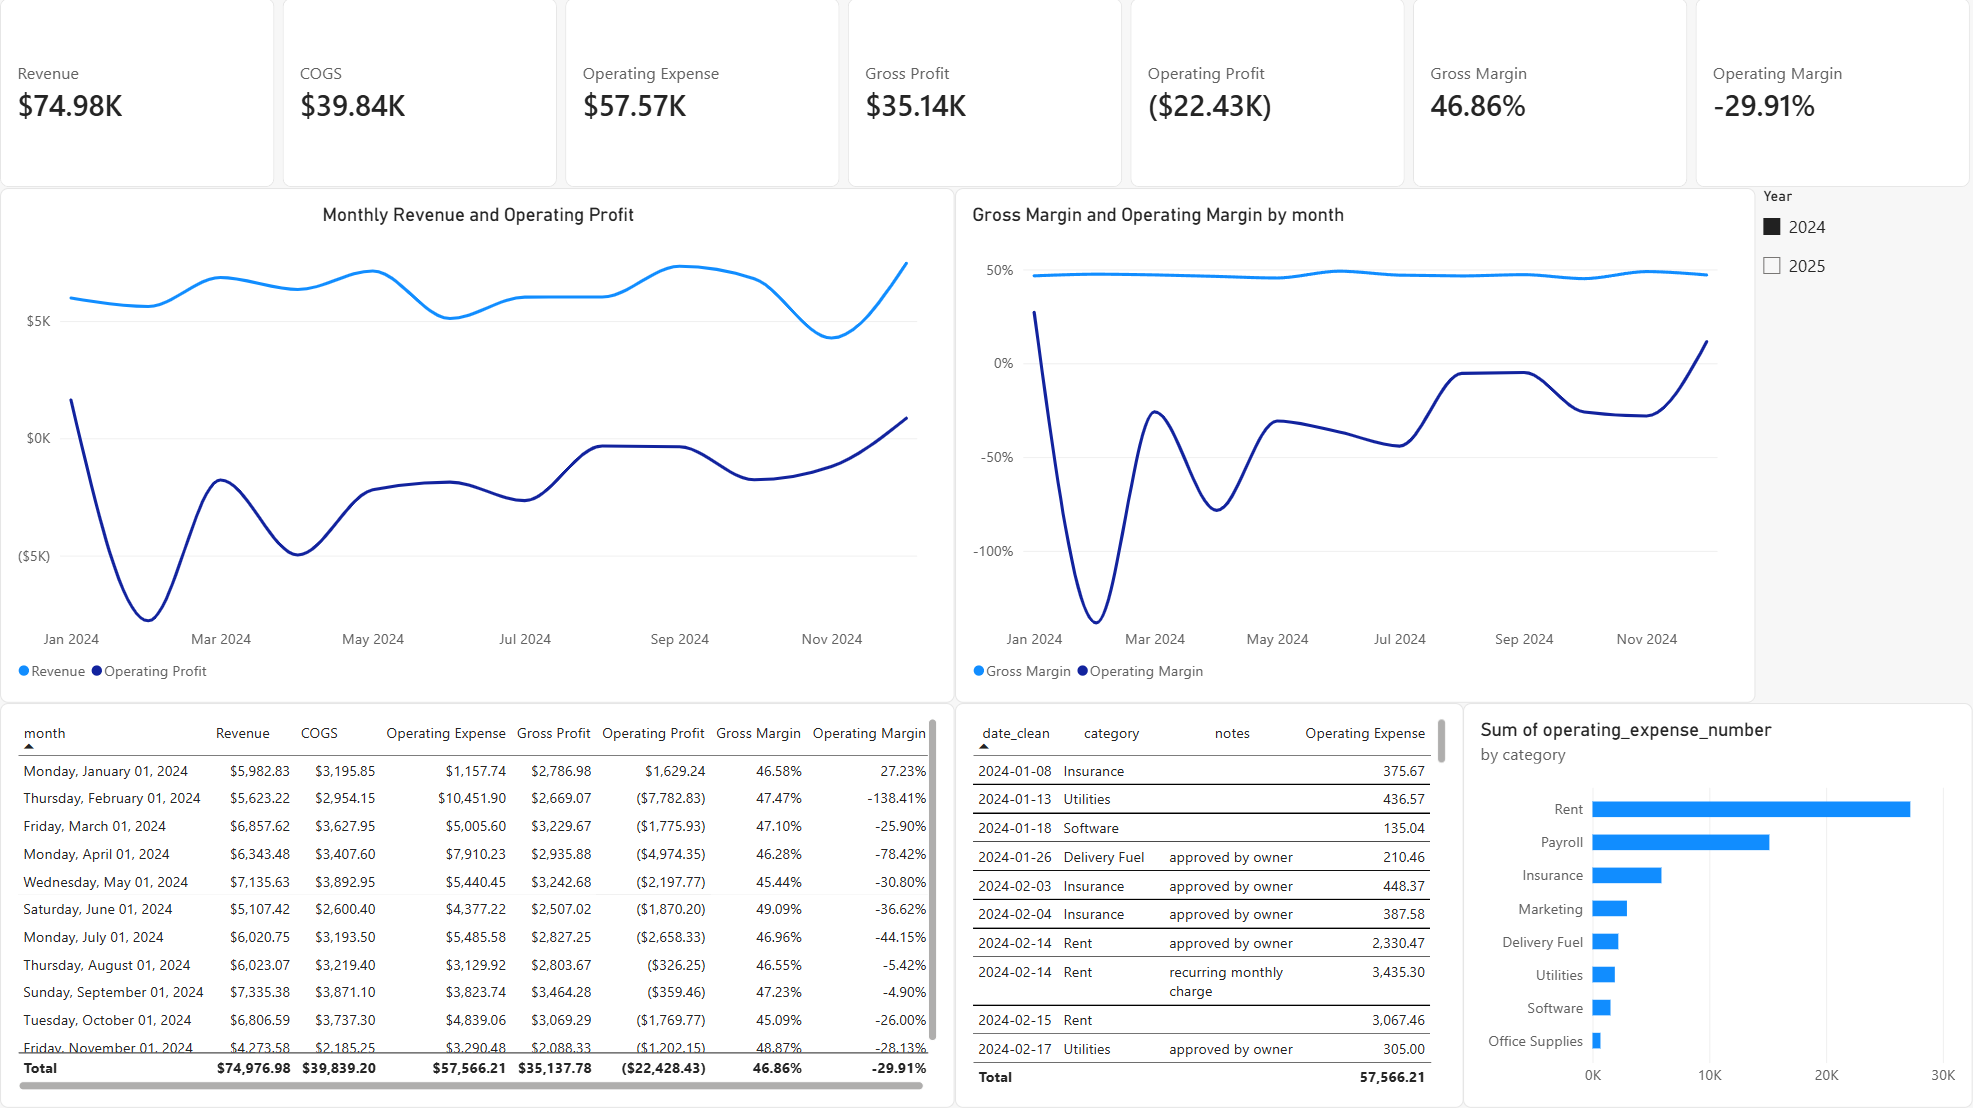

The page's visual inventory and layout, read from the dashboard file:
{"tool":"powerbi","page":{"name":"Reporting","canvas":[1920,1080],"ordinal":0},"visuals":[{"type":"cardVisual","fields":{"Data":["monthly_financial_summary.Revenue","monthly_financial_summary.COGS","monthly_financial_summary.Operating Expense","monthly_financial_summary.Gross Profit","monthly_financial_summary.Operating Profit","monthly_financial_summary.Gross Margin","monthly_financial_summary.Operating Margin"]},"box":[0,0,1920,184.5],"z":0},{"type":"slicer","fields":{"Values":["monthly_financial_summary.month.Variation.Date Hierarchy.Year"]},"box":[1707.6,184.6,212.4,102.1],"z":1000},{"type":"lineChart","title":"Monthly Revenue and Operating Profit","fields":{"Category":["monthly_financial_summary.month"],"Y":["monthly_financial_summary.Revenue","monthly_financial_summary.Operating Profit"]},"box":[0,184.6,929.1,501.1],"z":2000},{"type":"lineChart","fields":{"Category":["monthly_financial_summary.month"],"Y":["monthly_financial_summary.Gross Margin","monthly_financial_summary.Operating Margin"]},"box":[929.1,184.6,778.5,501.1],"z":3000},{"type":"tableEx","fields":{"Values":["monthly_financial_summary.month","monthly_financial_summary.Revenue","monthly_financial_summary.COGS","monthly_financial_summary.Operating Expense","monthly_financial_summary.Gross Profit","monthly_financial_summary.Operating Profit","monthly_financial_summary.Gross Margin","monthly_financial_summary.Operating Margin"]},"box":[0,685.7,929.1,393.9],"z":4000},{"type":"tableEx","fields":{"Values":["monthly_financial_summary_opex.date_clean","monthly_financial_summary_opex.category","monthly_financial_summary_opex.notes","Sum(monthly_financial_summary_opex.operating_expense_number)"]},"box":[929.1,685.7,495,393.9],"z":5000},{"type":"barChart","fields":{"Category":["monthly_financial_summary_opex.category"],"Y":["Sum(monthly_financial_summary_opex.operating_expense_number)"]},"box":[1424,685.7,496,393.9],"z":5001}]}

Visuals, with their boxes in screenshot pixels (x1, y1, x2, y2), scaled from the page's 1920x1080 canvas onto the 1973x1108 screenshot:
cardVisual - monthly_financial_summary.Revenue x monthly_financial_summary.COGS: bbox=[0, 0, 1972, 189]
slicer - monthly_financial_summary.month.Variation.Date Hierarchy.Year: bbox=[1755, 189, 1972, 294]
"Monthly Revenue and Operating Profit" lineChart: bbox=[0, 189, 955, 703]
lineChart - monthly_financial_summary.month x monthly_financial_summary.Gross Margin: bbox=[955, 189, 1755, 703]
tableEx - monthly_financial_summary.month x monthly_financial_summary.Revenue: bbox=[0, 703, 955, 1107]
tableEx - monthly_financial_summary_opex.date_clean x monthly_financial_summary_opex.category: bbox=[955, 703, 1463, 1107]
barChart - monthly_financial_summary_opex.category x Sum(monthly_financial_summary_opex.operating_expense_number): bbox=[1463, 703, 1972, 1107]
